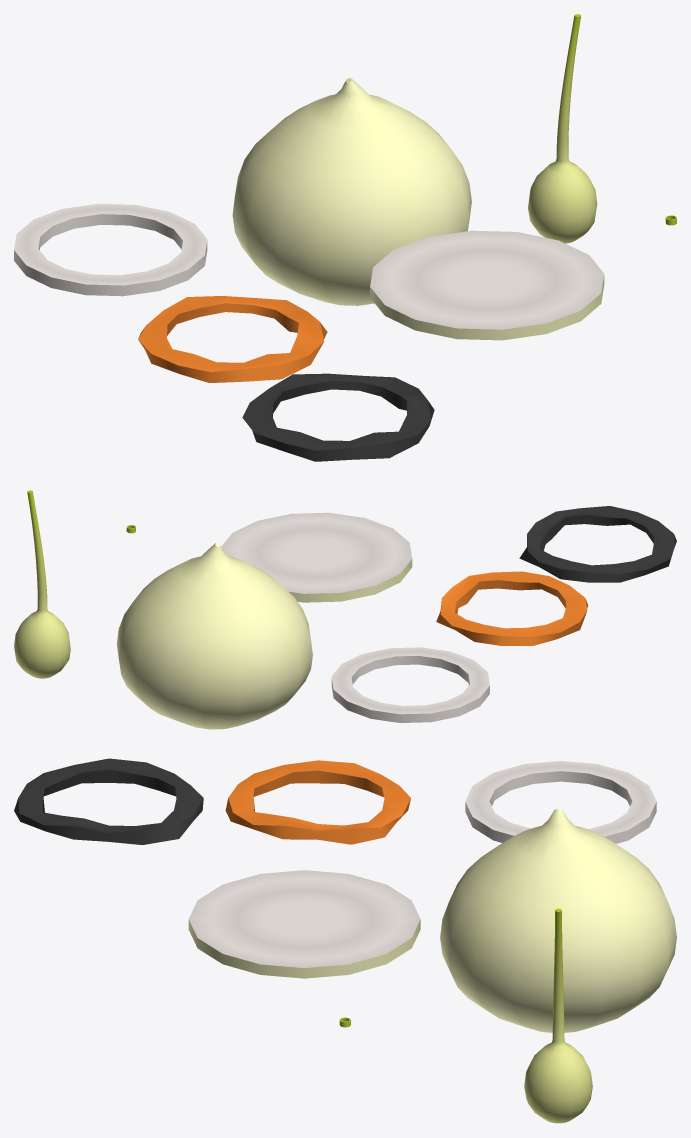
The model's file is onion.fbx.
3 views of the same model, one above another, from view 1: azimuth 30°, elevation 25°; view 2: azimuth 150°, elevation 25°; view 3: azimuth 270°, elevation 25° (orthographic). The views are drawn at different scales.
Visible parts, largest first — view 1: onion_White, onion_White_Slice, onion_Ring, onion_Ring_Burnt, onion_Ring_Fried, onion_Spring; view 2: onion_White, onion_White_Slice, onion_Ring, onion_Ring_Burnt, onion_Ring_Fried, onion_Spring; view 3: onion_White, onion_White_Slice, onion_Ring_Burnt, onion_Ring_Fried, onion_Ring, onion_Spring.
Boxes of the visible parts, bbox=[...] form: onion_White: bbox=[232, 78, 471, 305]; onion_White_Slice: bbox=[370, 230, 604, 340]; onion_Ring: bbox=[14, 203, 207, 296]; onion_Ring_Burnt: bbox=[242, 373, 434, 461]; onion_Ring_Fried: bbox=[138, 296, 327, 382]; onion_Spring: bbox=[528, 14, 597, 243]; onion_White: bbox=[116, 543, 312, 729]; onion_White_Slice: bbox=[221, 512, 412, 602]; onion_Ring: bbox=[331, 647, 489, 722]; onion_Ring_Burnt: bbox=[519, 506, 676, 582]; onion_Ring_Fried: bbox=[436, 571, 588, 645]; onion_Spring: bbox=[14, 490, 70, 678]; onion_White: bbox=[440, 809, 676, 1032]; onion_White_Slice: bbox=[188, 870, 420, 978]; onion_Ring_Burnt: bbox=[14, 758, 203, 844]; onion_Ring_Fried: bbox=[225, 760, 410, 844]; onion_Ring: bbox=[465, 761, 656, 843]; onion_Spring: bbox=[524, 908, 592, 1123].
Size of the model in its own units: 3.26 by 3.36 by 1.25.
